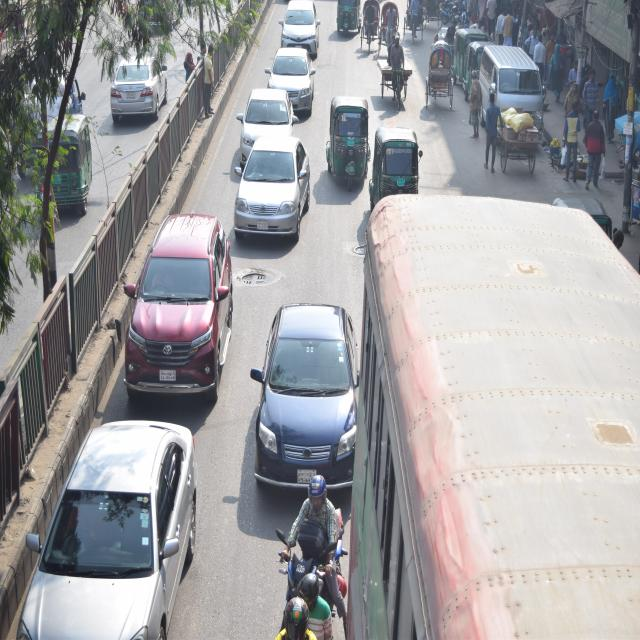bus: (244, 182, 355, 348)
car: (11, 410, 202, 640), (118, 207, 239, 406), (250, 293, 359, 505), (231, 132, 313, 242), (109, 52, 170, 128), (232, 85, 296, 156), (267, 39, 313, 99), (282, 0, 322, 51)
microbus: (475, 39, 550, 138)
